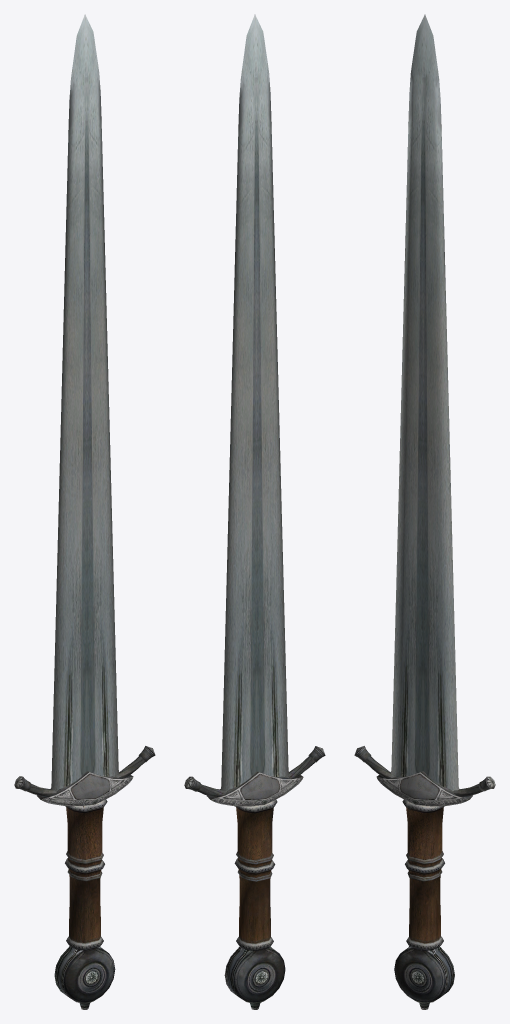
The model's file is w_longsword.glb.
The picture shows the model from 3 angles, left to right: view 1: azimuth 30°, elevation 25°; view 2: azimuth 210°, elevation 25°; view 3: azimuth 330°, elevation 25°; orthographic projection.
Parts seen in each view (by area): view 1: Longsword:0; view 2: Longsword:0; view 3: Longsword:0.
Part boxes in pixels (left/top/right/bottom): Longsword:0: left=14, top=14, right=155, bottom=1009; Longsword:0: left=184, top=14, right=325, bottom=1009; Longsword:0: left=354, top=14, right=495, bottom=1009.
Bounding box in the file's own units: 11.52 × 79.15 × 3.19.
1 material, 1 textured.
